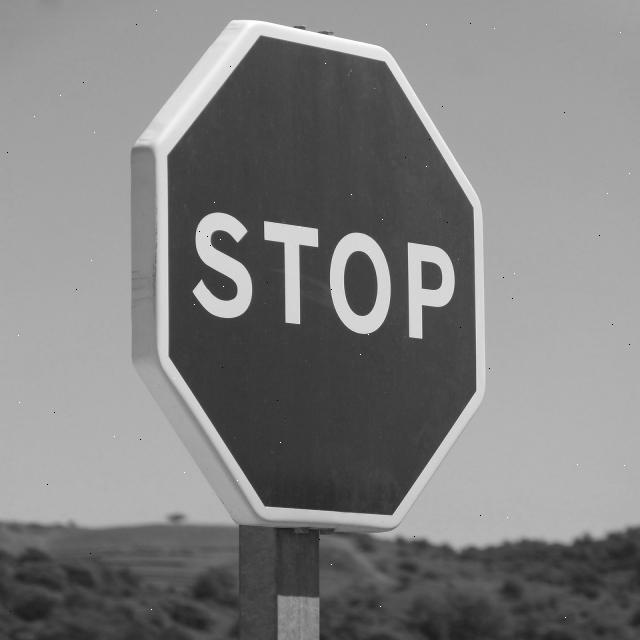Stop-sign: (101, 5, 508, 542)
